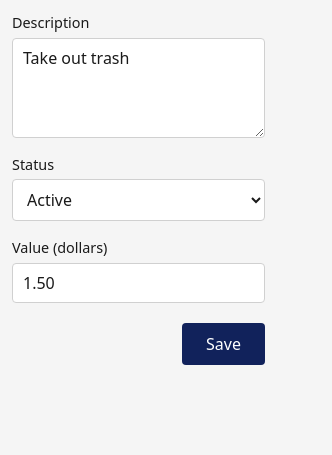
Test: ChoreDetailForm › shows the error message from a rejected save
The width and height of the screenshot is (332, 455).
Step 1. Click the button "Save" → coordinates (224, 344), box [182,323,265,365]
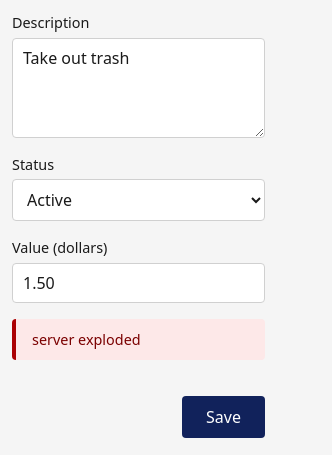
Expected: the message reads "server exploded", [32,330,141,349]
